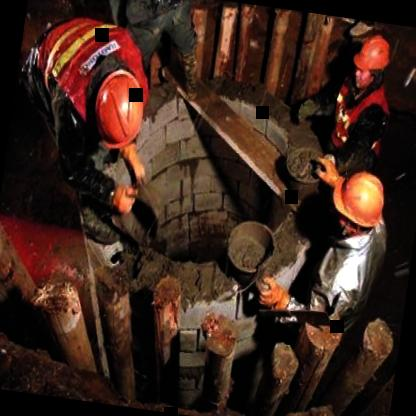helmet: (86, 60, 158, 156), (328, 165, 388, 241), (352, 32, 395, 86)
